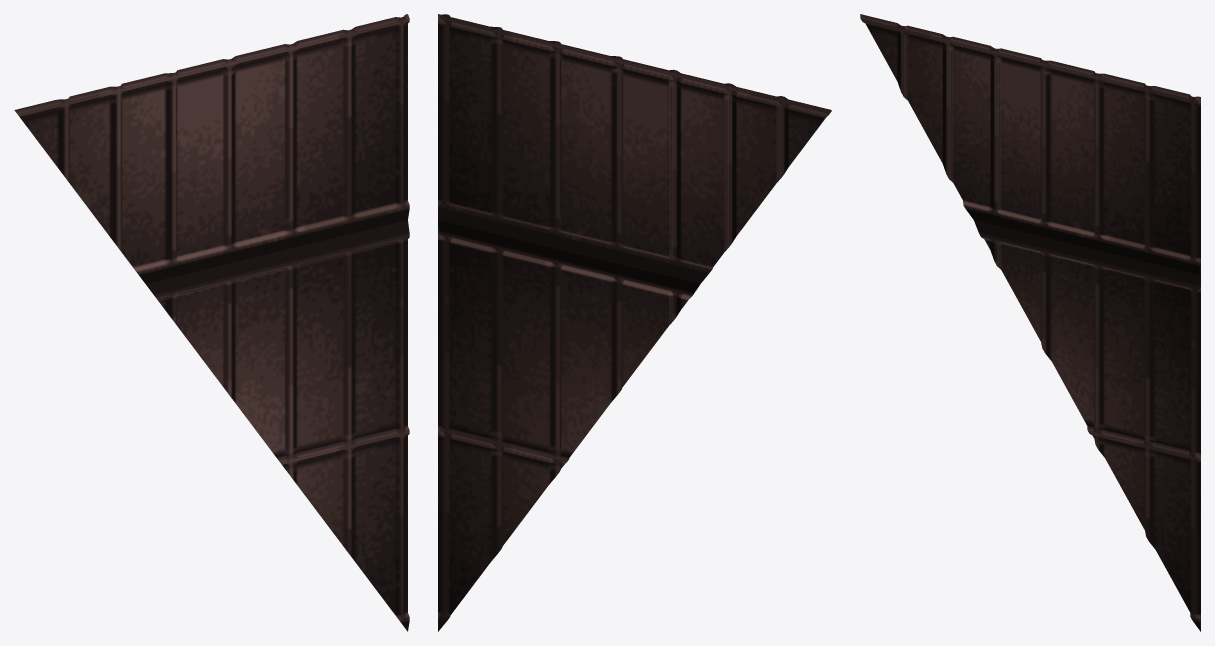
Rendered from eng2_1_slice384highrh.fbx.
3 renders of one model, left to right at view 1: azimuth 30°, elevation 25°; view 2: azimuth 150°, elevation 25°; view 3: azimuth 330°, elevation 25°, orthographic. The views are drawn at different scales.
Parts seen in each view (by area): view 1: eng2_1_slice384high_mesh; view 2: eng2_1_slice384high_mesh; view 3: eng2_1_slice384high_mesh.
Boxes of the visible parts, left/top/right/bottom form: eng2_1_slice384high_mesh: left=14, top=14, right=409, bottom=631; eng2_1_slice384high_mesh: left=438, top=14, right=831, bottom=631; eng2_1_slice384high_mesh: left=860, top=14, right=1200, bottom=631.
Bounding box in the file's own units: 256 × 384 × 2.
